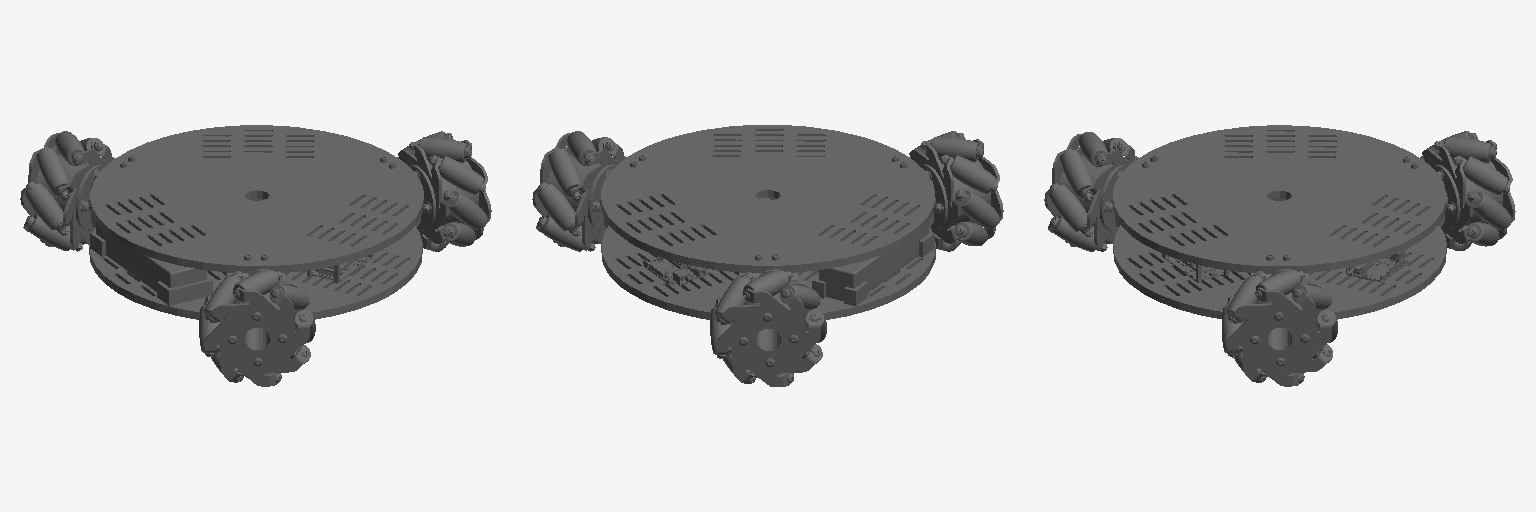
robot.urdf — vehicle_urdf:
<?xml version="1.0" encoding="utf-8"?>
<!-- This URDF was automatically created by SolidWorks to URDF Exporter! Originally created by [author] ([email redacted]) 
     Commit Version: 1.6.0-4-g7f85cfe  Build Version: 1.6.7995.38578
     For more information, please see http://wiki.ros.org/sw_urdf_exporter -->
<robot
  name="vehicle_urdf">
  <link
    name="chassis">
    <inertial>
      <origin
        xyz="-0.00262140140679688 -0.00118936718756312 0.0292330466204813"
        rpy="0 0 0" />
      <mass
        value="19.8143419039205" />
      <inertia
        ixx="0.208656033310725"
        ixy="0.000561824836569702"
        ixz="1.78596745068967E-05"
        iyy="0.208972573303732"
        iyz="0.000332302945187262"
        izz="0.412511137472056" />
    </inertial>
    <visual>
      <origin
        xyz="0 0 0"
        rpy="0 0 0" />
      <geometry>
        <mesh
          filename="package://vehicle_urdf/meshes/chassis.STL" />
      </geometry>
      <material
        name="">
        <color
          rgba="0.45294 0.45294 0.45294 1" />
      </material>
    </visual>
    <collision>
      <origin
        xyz="0 0 0"
        rpy="0 0 0" />
      <geometry>
        <mesh
          filename="package://vehicle_urdf/meshes/chassis.STL" />
      </geometry>
    </collision>
  </link>
  <link
    name="wheel_1">
    <inertial>
      <origin
        xyz="-1.1969E-12 4.3588E-06 -0.048207"
        rpy="0 0 0" />
      <mass
        value="0.60859" />
      <inertia
        ixx="0.00032349"
        ixy="-2.6504E-14"
        ixz="-8.2826E-15"
        iyy="0.00032352"
        iyz="-1.5265E-08"
        izz="0.0004473" />
    </inertial>
    <visual>
      <origin
        xyz="0 0 0"
        rpy="0 0 0" />
      <geometry>
        <mesh
          filename="package://vehicle_urdf/meshes/wheel_1.STL" />
      </geometry>
      <material
        name="">
        <color
          rgba="0.45294 0.45294 0.45294 1" />
      </material>
    </visual>
    <collision>
      <origin
        xyz="0 0 0"
        rpy="0 0 0" />
      <geometry>
        <mesh
          filename="package://vehicle_urdf/meshes/wheel_1.STL" />
      </geometry>
    </collision>
  </link>
  <joint
    name="wheel_1"
    type="continuous">
    <origin
      xyz="0.20765 0 0.01173"
      rpy="0 0 3.14" />
    <parent
      link="chassis" />
    <child
      link="wheel_1" />
    <axis
      xyz="1 0 0" />
  </joint>
  <link
    name="wheel_2">
    <inertial>
      <origin
        xyz="-1.8839E-11 4.359E-06 -0.027132"
        rpy="0 0 0" />
      <mass
        value="0.60859" />
      <inertia
        ixx="0.00032349"
        ixy="-4.2249E-14"
        ixz="-2.962E-14"
        iyy="0.00032352"
        iyz="-1.5266E-08"
        izz="0.0004473" />
    </inertial>
    <visual>
      <origin
        xyz="0 0 0"
        rpy="0 0 0" />
      <geometry>
        <mesh
          filename="package://vehicle_urdf/meshes/wheel_2.STL" />
      </geometry>
      <material
        name="">
        <color
          rgba="0.45294 0.45294 0.45294 1" />
      </material>
    </visual>
    <collision>
      <origin
        xyz="0 0 0"
        rpy="0 0 0" />
      <geometry>
        <mesh
          filename="package://vehicle_urdf/meshes/wheel_2.STL" />
      </geometry>
    </collision>
  </link>
  <joint
    name="wheel_2"
    type="continuous">
    <origin
      xyz="-0.11436 0.19808 0.01173"
      rpy="0 0 -1.0472" />
    <parent
      link="chassis" />
    <child
      link="wheel_2" />
    <axis
      xyz="1 0 0" />
  </joint>
  <link
    name="wheel_3">
    <inertial>
      <origin
        xyz="1.9847E-11 4.3588E-06 -0.12711"
        rpy="0 0 0" />
      <mass
        value="0.60859" />
      <inertia
        ixx="0.00032349"
        ixy="-6.0798E-15"
        ixz="1.3701E-14"
        iyy="0.00032352"
        iyz="-1.5266E-08"
        izz="0.0004473" />
    </inertial>
    <visual>
      <origin
        xyz="0 0 0"
        rpy="0 0 0" />
      <geometry>
        <mesh
          filename="package://vehicle_urdf/meshes/wheel_3.STL" />
      </geometry>
      <material
        name="">
        <color
          rgba="0.45294 0.45294 0.45294 1" />
      </material>
    </visual>
    <collision>
      <origin
        xyz="0 0 0"
        rpy="0 0 0" />
      <geometry>
        <mesh
          filename="package://vehicle_urdf/meshes/wheel_3.STL" />
      </geometry>
    </collision>
  </link>
  <joint
    name="wheel_3"
    type="continuous">
    <origin
      xyz="-0.111333 -0.19628 0.01173"
      rpy="0 0 1.0472" />
    <parent
      link="chassis" />
    <child
      link="wheel_3" />
    <axis
      xyz="1 0 0" />
  </joint>
</robot>

--- What the picture shows (computed from the rendered views, not written in the file) ---
The picture shows the robot from 3 angles, left to right: view 1: azimuth 30°, elevation 25°; view 2: azimuth 150°, elevation 25°; view 3: azimuth 270°, elevation 25°; orthographic projection.
Robot: vehicle_urdf — 4 links, 3 joints (3 continuous); root link chassis; default pose: every joint at zero.
Visible links, largest first — view 1: chassis, wheel_3, wheel_2, wheel_1; view 2: chassis, wheel_2, wheel_1, wheel_3; view 3: chassis, wheel_1, wheel_2, wheel_3.
Boxes of the visible links, bbox=[...] form: chassis: bbox=[89, 125, 423, 319]; wheel_3: bbox=[199, 269, 315, 386]; wheel_2: bbox=[20, 131, 115, 251]; wheel_1: bbox=[397, 131, 491, 251]; chassis: bbox=[601, 125, 935, 319]; wheel_2: bbox=[710, 269, 826, 386]; wheel_1: bbox=[532, 131, 626, 251]; wheel_3: bbox=[909, 131, 1003, 251]; chassis: bbox=[1113, 125, 1446, 319]; wheel_1: bbox=[1222, 269, 1337, 386]; wheel_2: bbox=[1420, 131, 1515, 250]; wheel_3: bbox=[1044, 132, 1138, 251].
Size in the robot's own frame: 0.4914 by 0.5644 by 0.1399 metres.
Meshes: 4 distinct files referenced, 4 mesh visuals loaded (4 binary STL).